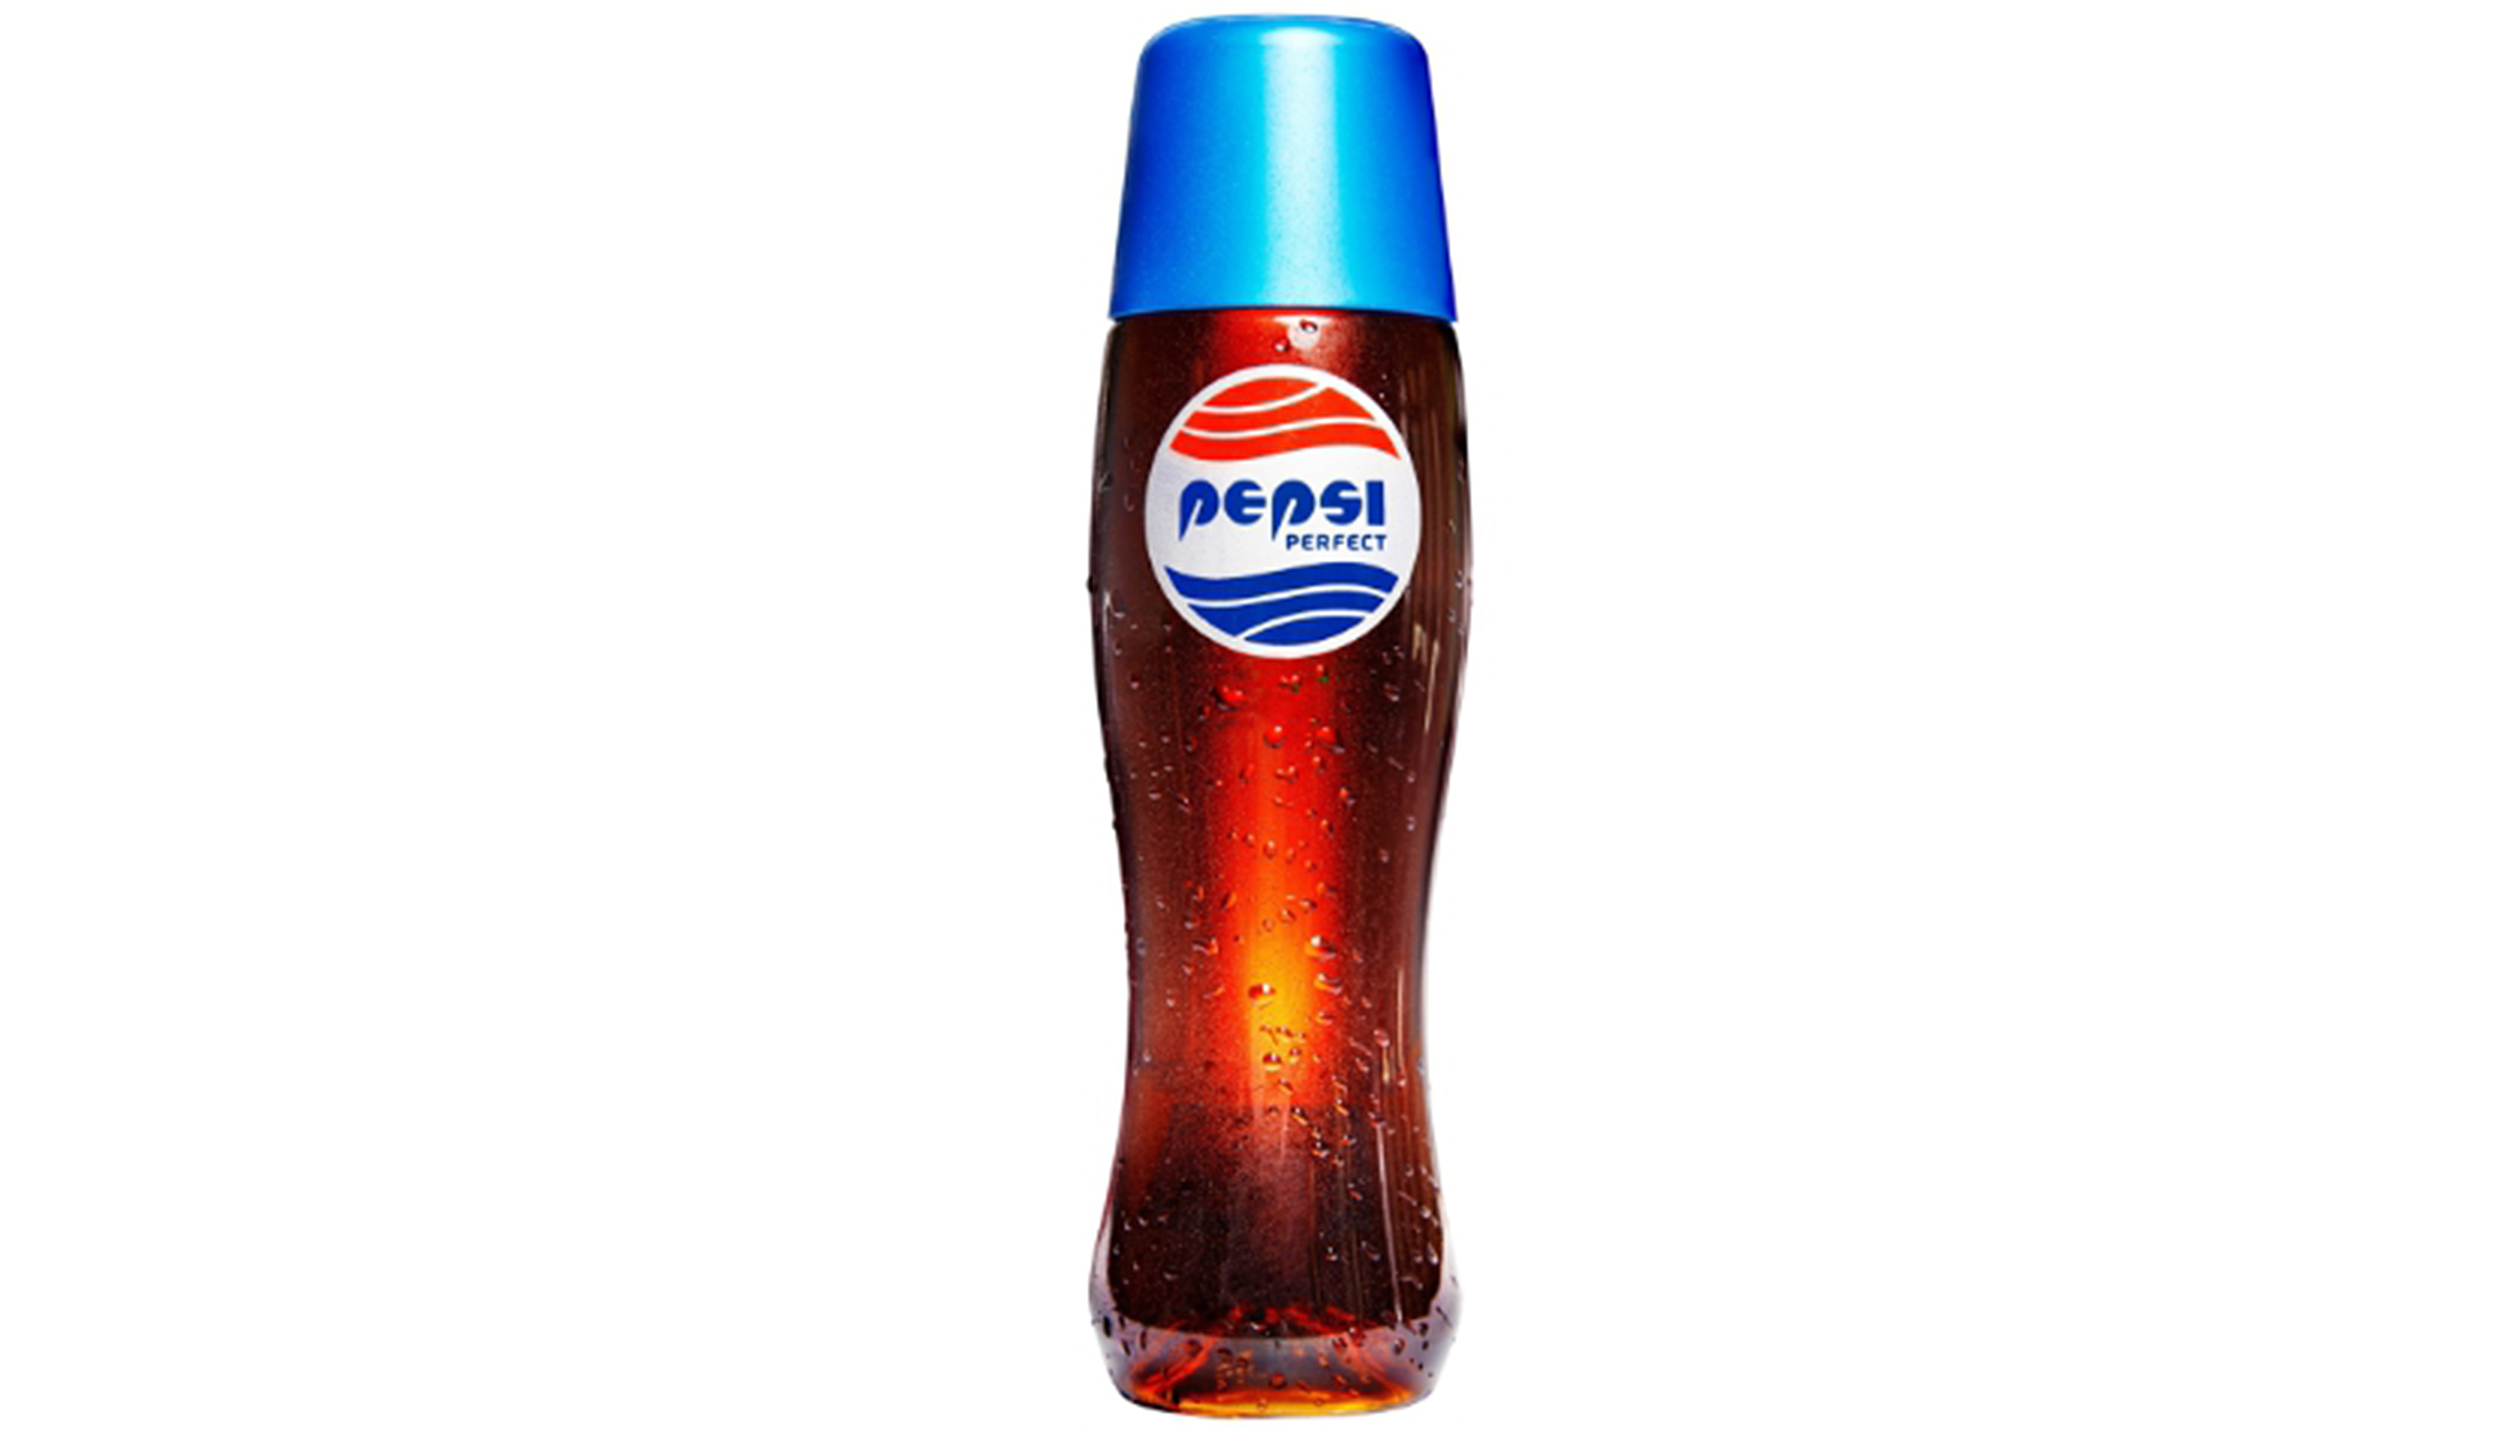pepsi: (1148, 360, 1418, 662)
